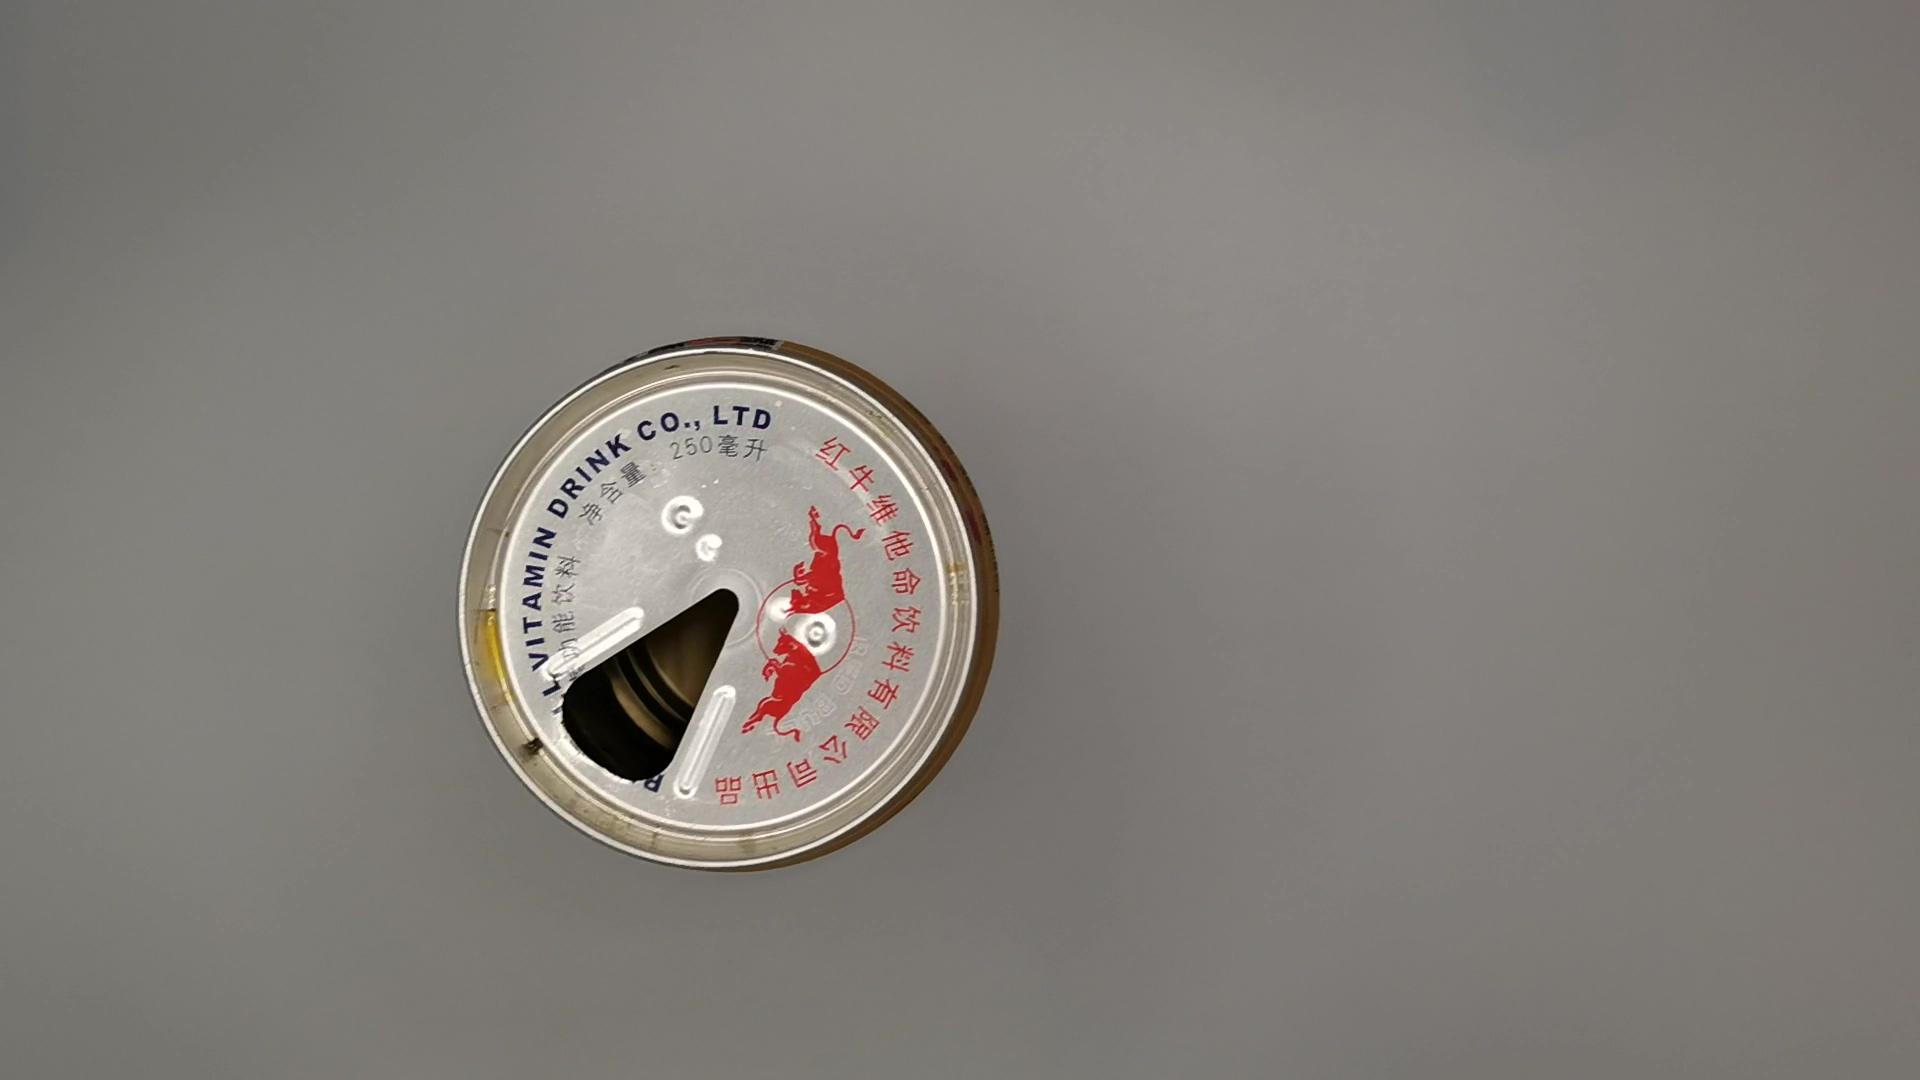can: (451, 327, 1015, 884)
